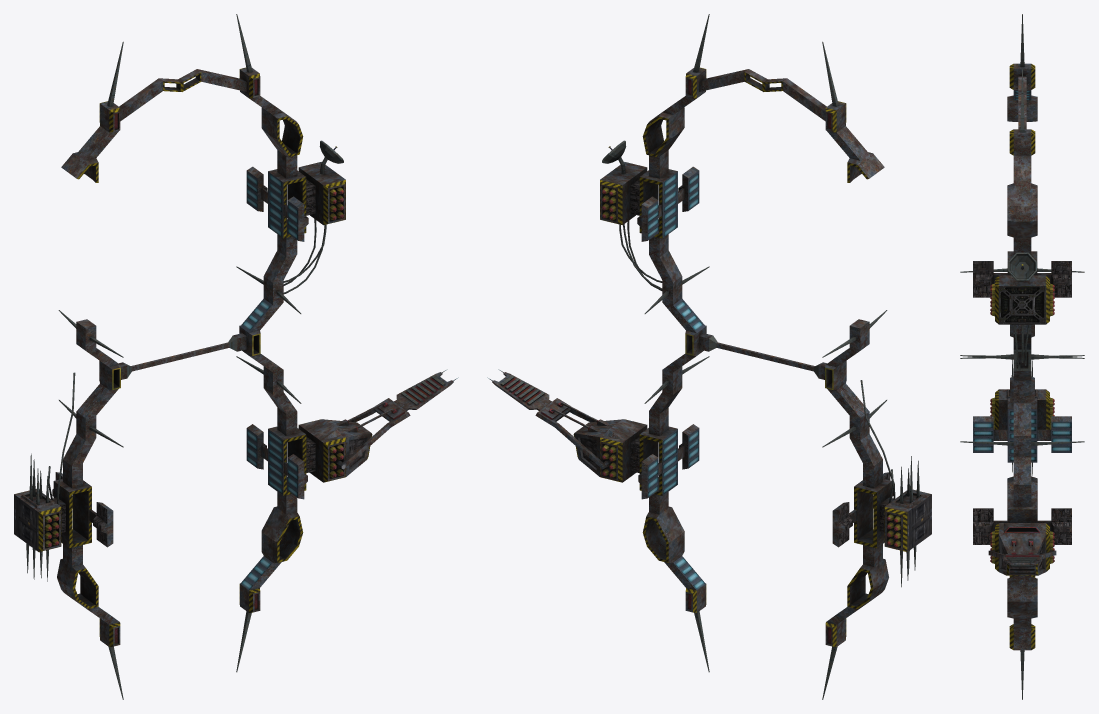
File: JTL-variation6.obj
3 views of the same model, side by side, from view 1: azimuth 30°, elevation 25°; view 2: azimuth 150°, elevation 25°; view 3: azimuth 270°, elevation 25° (orthographic). The views are drawn at different scales.
Parts seen in each view (by area): view 1: Box01; view 2: Box01; view 3: Box01.
Boxes of the visible parts, x1=… form: Box01: x1=14, y1=14, x2=458, y2=699; Box01: x1=487, y1=14, x2=931, y2=699; Box01: x1=960, y1=14, x2=1084, y2=699.
Size of the model in its own units: 200 by 295 by 52.35.
1 material, 1 textured.
